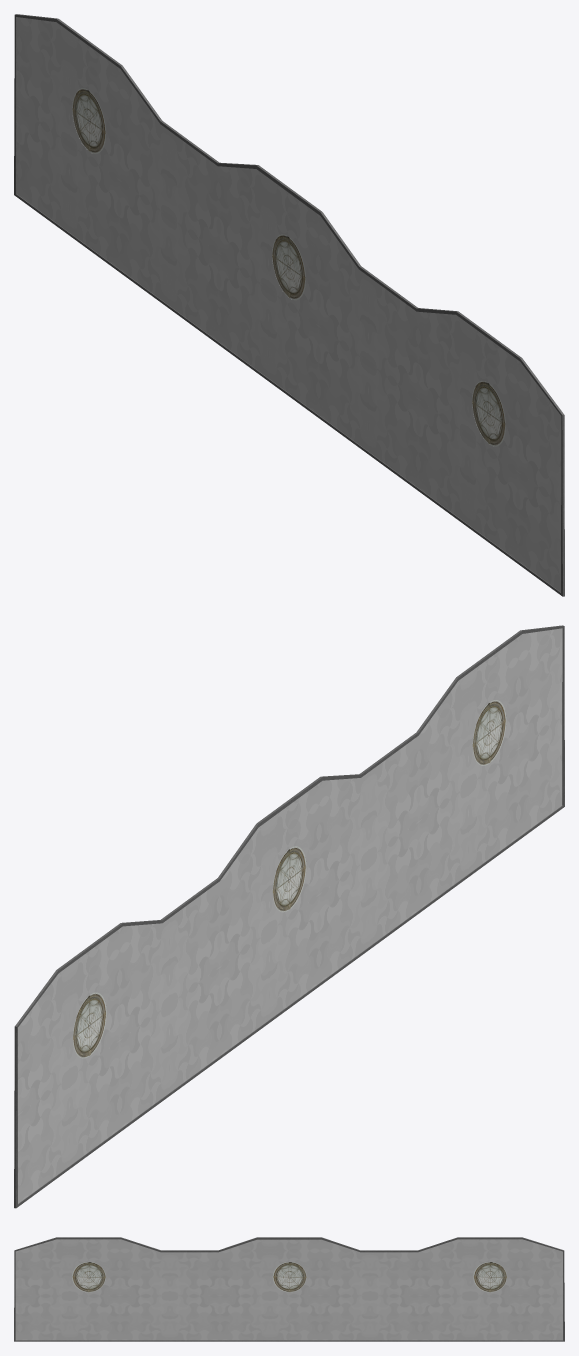
The model's file is Station03WallFront01C.FBX.
3 views of the same model, one above another, from view 1: azimuth 30°, elevation 25°; view 2: azimuth 150°, elevation 25°; view 3: azimuth 270°, elevation 25° (orthographic). The views are drawn at different scales.
Parts seen in each view (by area): view 1: Station03WallFront01C, Station03WallFrontMtlC, Station03WallFCircleC; view 2: Station03WallFront01C, Station03WallFrontMtlC, Station03WallFCircleC; view 3: Station03WallFront01C, Station03WallFrontMtlC, Station03WallFCircleC.
Part boxes in pixels (left/top/right/bottom): Station03WallFront01C: left=16, top=17, right=561, bottom=591; Station03WallFrontMtlC: left=14, top=14, right=564, bottom=596; Station03WallFCircleC: left=72, top=88, right=505, bottom=446; Station03WallFront01C: left=18, top=628, right=562, bottom=1203; Station03WallFrontMtlC: left=14, top=625, right=564, bottom=1208; Station03WallFCircleC: left=73, top=700, right=506, bottom=1058; Station03WallFront01C: left=15, top=1239, right=562, bottom=1340; Station03WallFrontMtlC: left=14, top=1237, right=564, bottom=1341; Station03WallFCircleC: left=72, top=1261, right=506, bottom=1292.
Size of the model in its own units: 4.48 by 425 by 2044.
